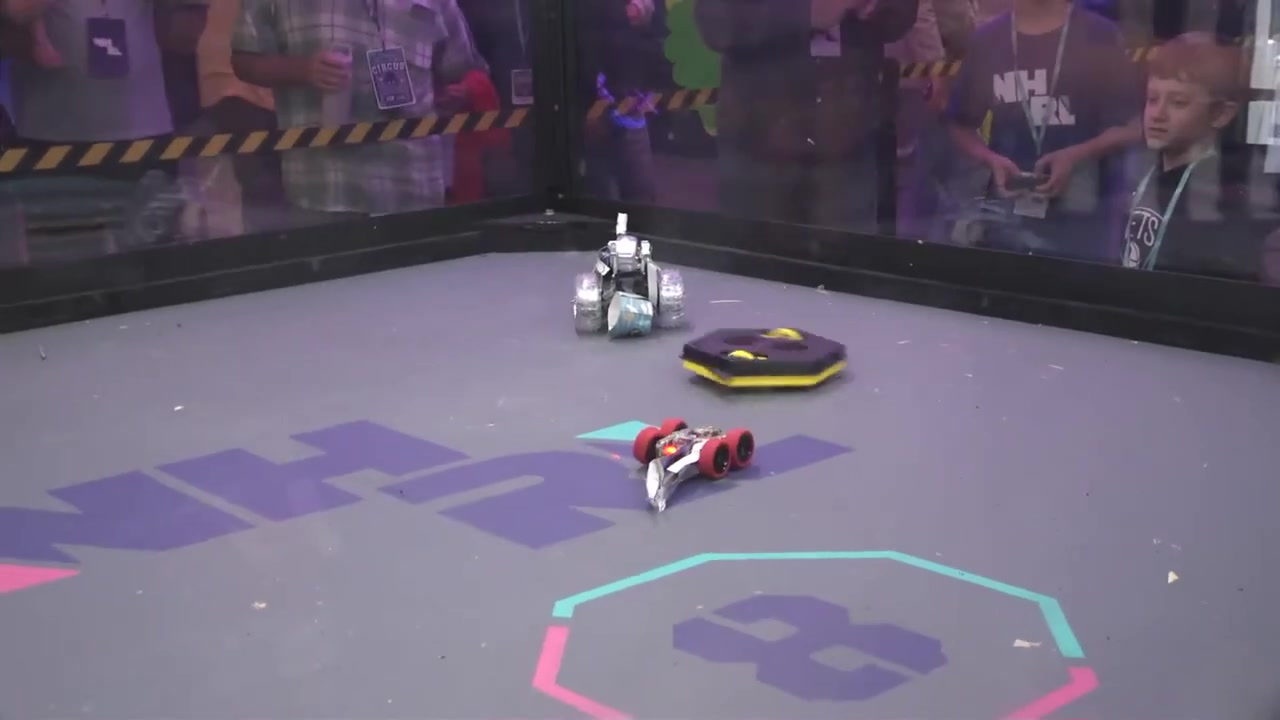combatbot: (678, 323, 848, 392), (573, 236, 688, 337), (630, 419, 755, 481)
